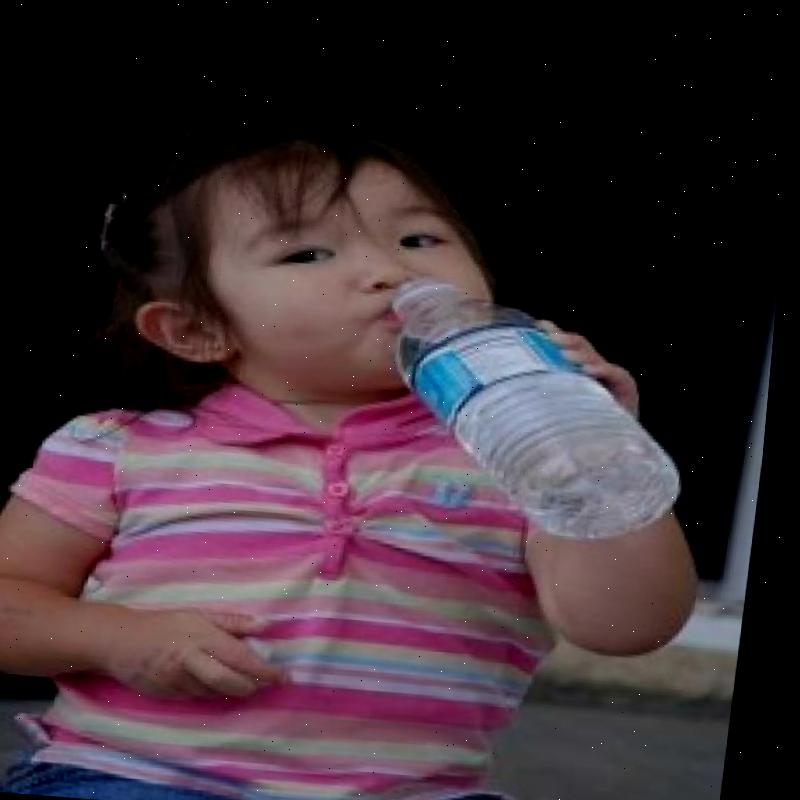botella: (373, 272, 709, 542)
